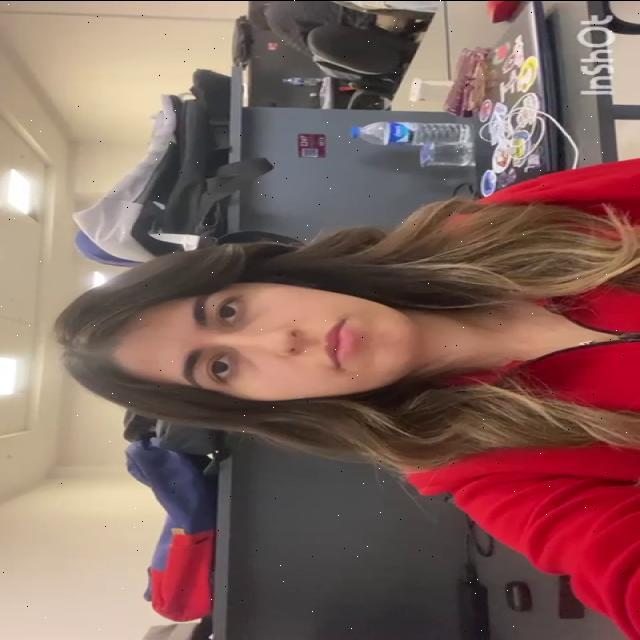natural: (113, 278, 425, 402)
